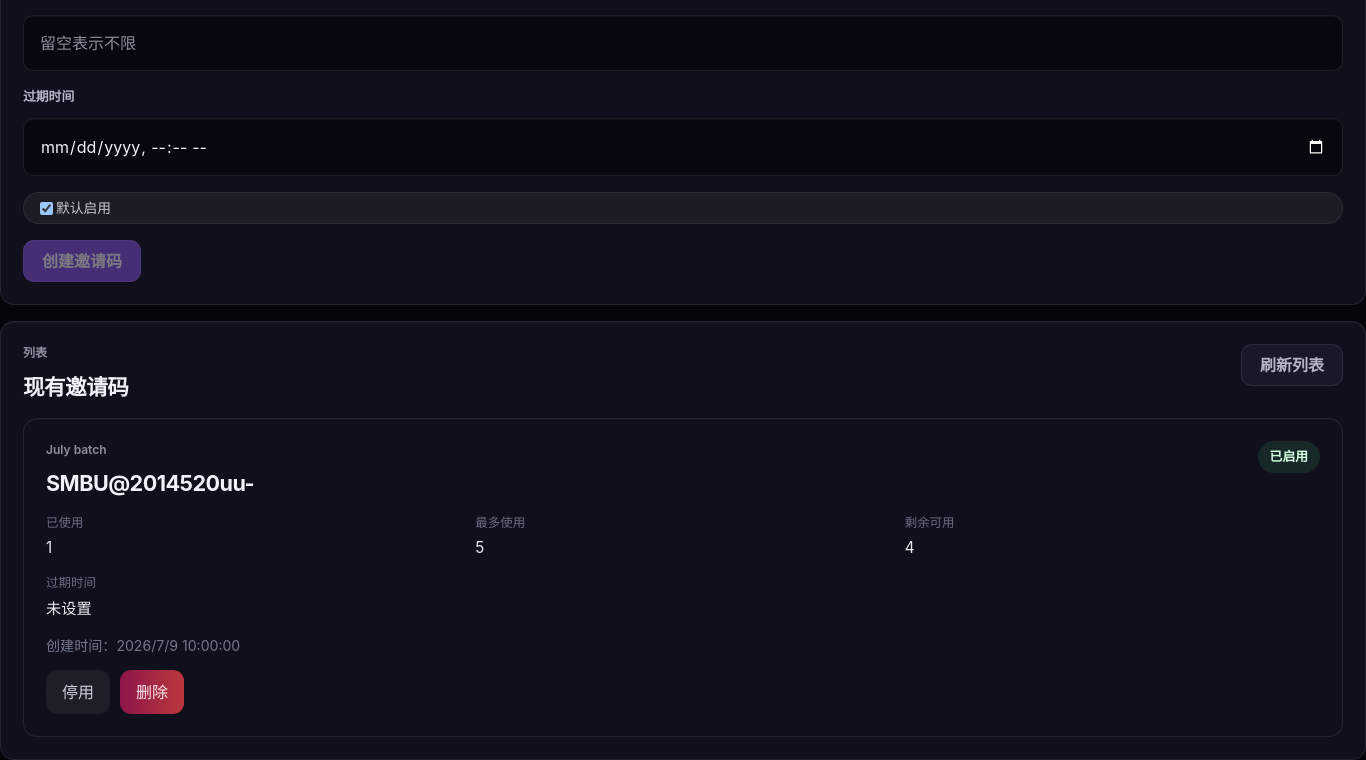
Test case: InviteCodesPanel › toggles and deletes an invite, reloading after each action
(page scrolled)
Click the button "停用" at (78, 692), box [46,670,110,714]
(page scrolled)
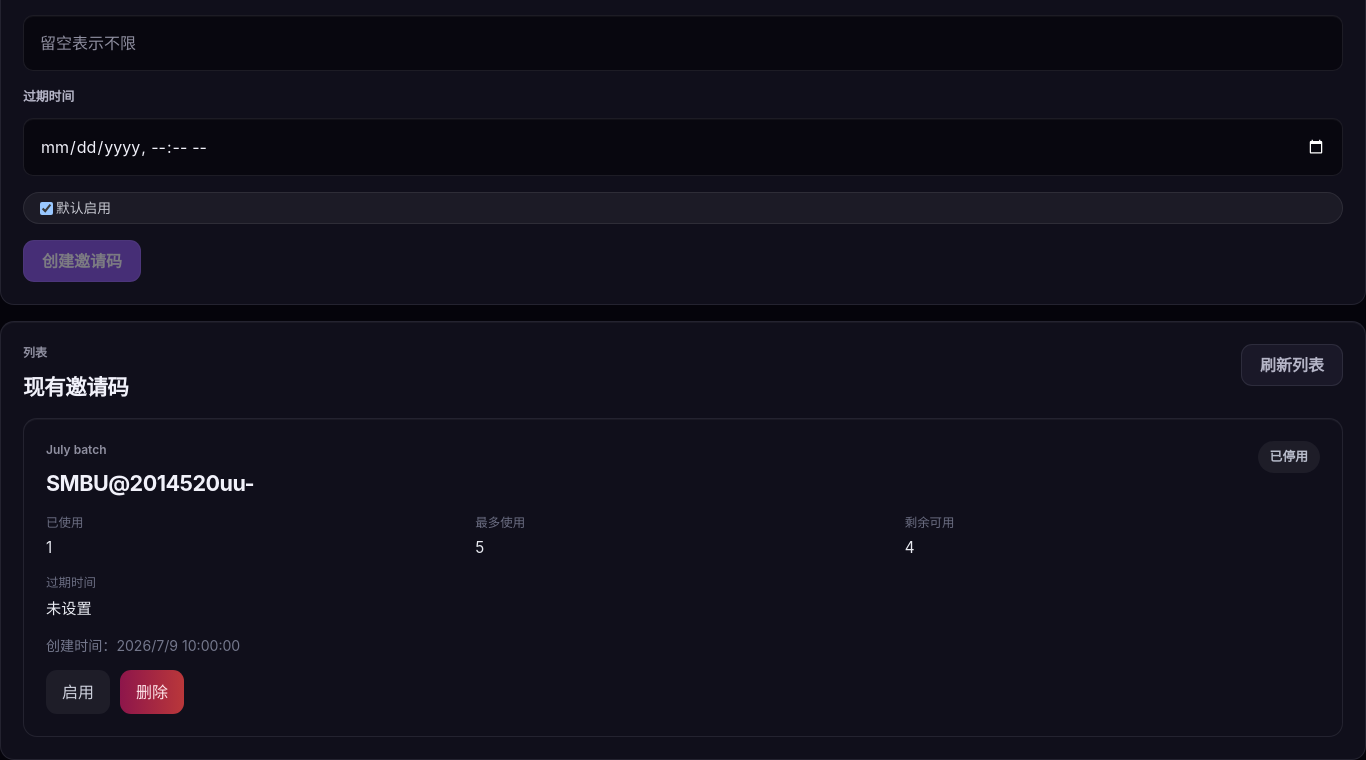
expect the text "已停用" is shown: met, box [1258,440,1320,472]
Click the button "删除" at (152, 692), box [120,670,184,714]
(page scrolled)
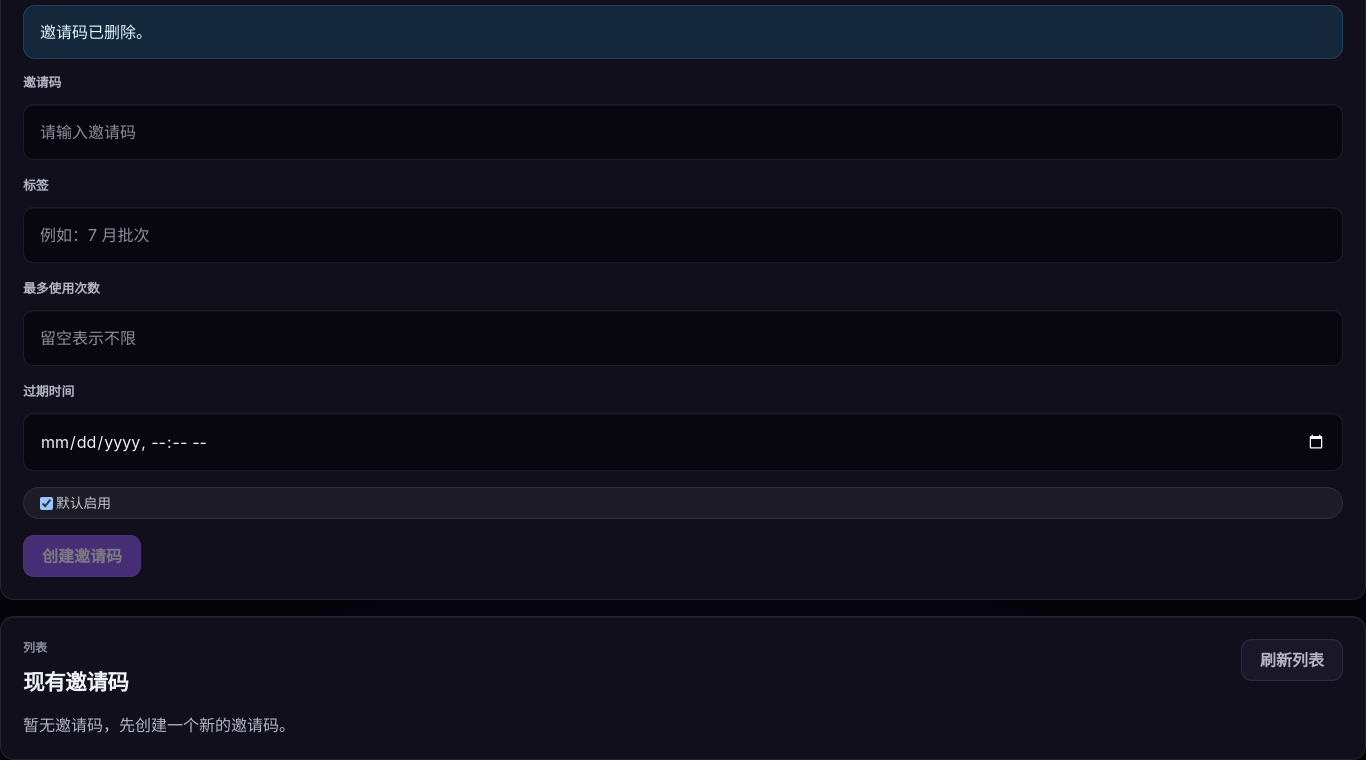
expect the text "July batch" is gone: met
